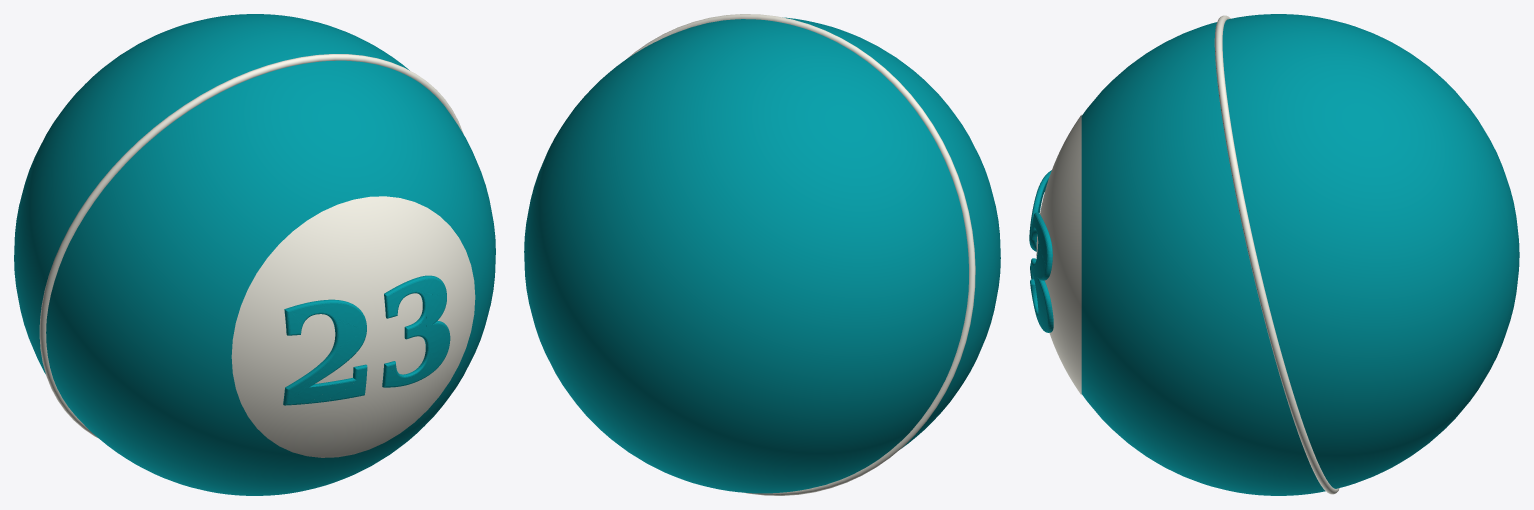
Rendered from LOTTO_BALL_23.glb.
The picture shows the model from 3 angles, left to right: view 1: azimuth 30°, elevation 25°; view 2: azimuth 150°, elevation 25°; view 3: azimuth 270°, elevation 25°; orthographic projection.
Visible parts, largest first — view 1: Teal lacquer shell, Curved white number field, NUMBER_23, White equatorial inlay; view 2: Teal lacquer shell, White equatorial inlay; view 3: Teal lacquer shell, Curved white number field, White equatorial inlay, NUMBER_23.
Boxes of the visible parts, <box> form: Teal lacquer shell: <box>14,14,495,495</box>; Curved white number field: <box>231,196,475,457</box>; NUMBER_23: <box>283,275,450,405</box>; White equatorial inlay: <box>39,54,463,438</box>; Teal lacquer shell: <box>524,17,1000,493</box>; White equatorial inlay: <box>628,14,975,495</box>; Teal lacquer shell: <box>1081,14,1519,495</box>; Curved white number field: <box>1036,115,1081,394</box>; White equatorial inlay: <box>1214,15,1339,494</box>; NUMBER_23: <box>1029,170,1053,332</box>.
Bounding box in the file's own units: 1.47 × 1.44 × 1.46.
